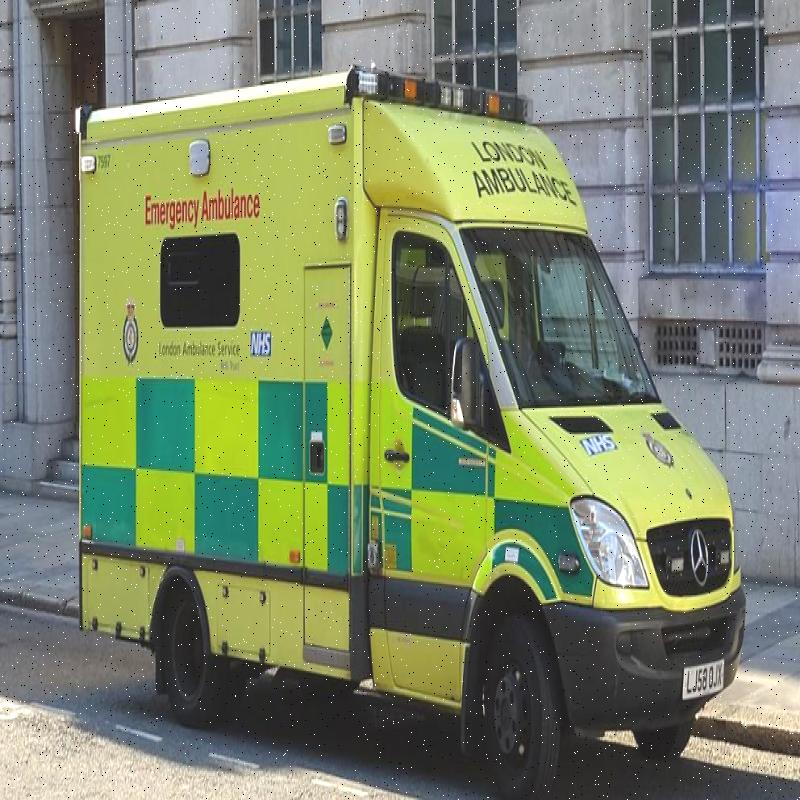ambulance: (81, 99, 688, 736)
